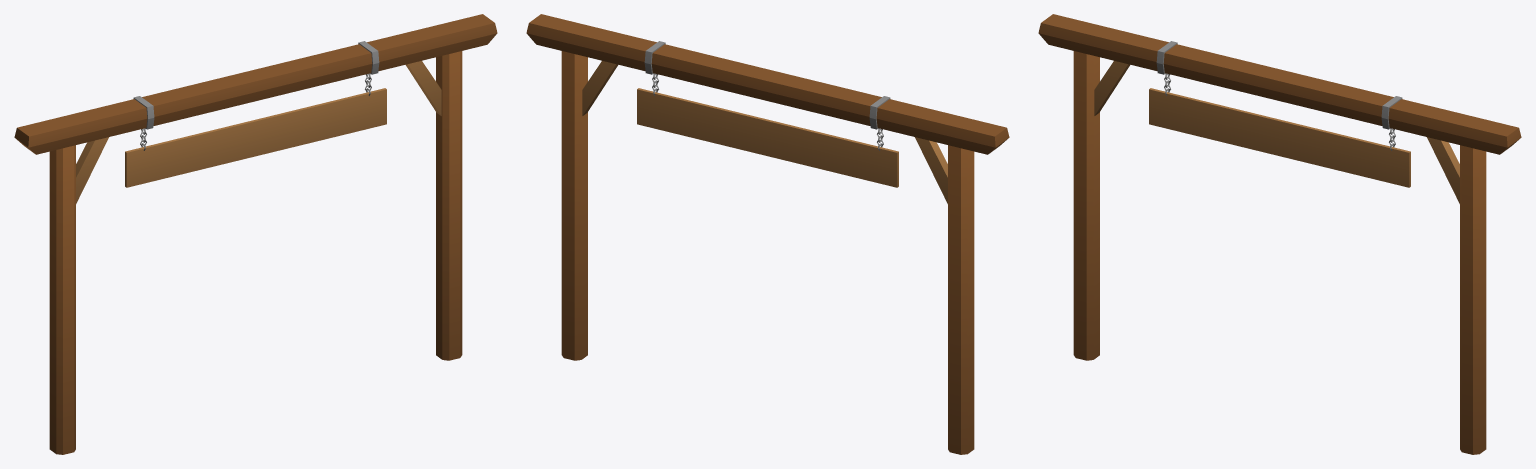
File: Bld_Farm_Gate_Sign_01.obj
The picture shows the model from 3 angles, left to right: view 1: azimuth 30°, elevation 25°; view 2: azimuth 150°, elevation 25°; view 3: azimuth 330°, elevation 25°; orthographic projection.
Visible parts, largest first — view 1: Bld_Farm_Gate_Sign_01; view 2: Bld_Farm_Gate_Sign_01; view 3: Bld_Farm_Gate_Sign_01.
Part boxes in pixels (x1,y1,x2,y2): Bld_Farm_Gate_Sign_01: [14, 14, 497, 454]; Bld_Farm_Gate_Sign_01: [526, 14, 1009, 454]; Bld_Farm_Gate_Sign_01: [1038, 14, 1521, 454].
Size of the model in its own units: 8.27 by 5.53 by 0.4733.
Materials: 1 (1 with a texture image).
